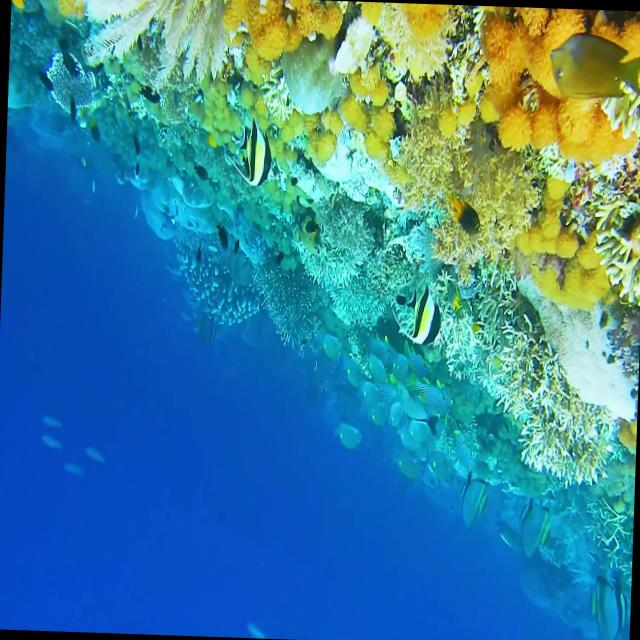fish: (548, 32, 640, 104), (237, 120, 276, 188), (400, 285, 442, 346)
